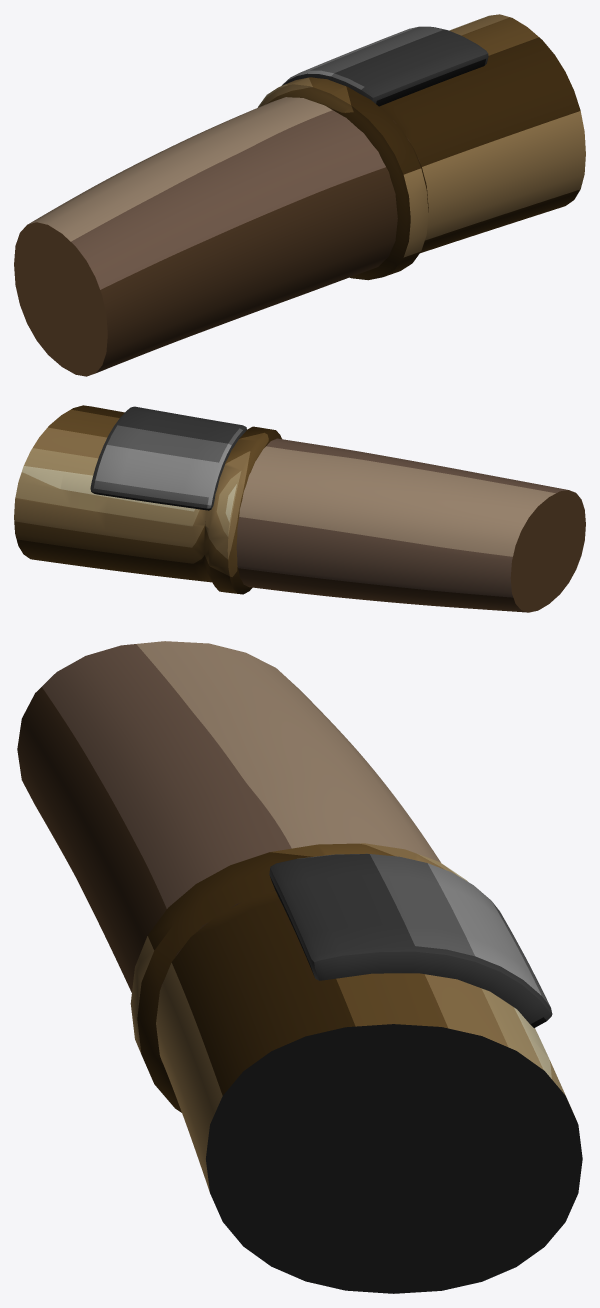
The model's file is tusk_arm_b_233.glb.
The picture shows the model from 3 angles, top to bottom: view 1: azimuth 30°, elevation 25°; view 2: azimuth 150°, elevation 25°; view 3: azimuth 270°, elevation 25°; orthographic projection. The views are drawn at different scales.
Visible parts, largest first — view 1: tusk_arm_b_233; view 2: tusk_arm_b_233; view 3: tusk_arm_b_233.
Part boxes in pixels (x1,y1,x2,y2): tusk_arm_b_233: (14, 14, 585, 376); tusk_arm_b_233: (14, 405, 585, 612); tusk_arm_b_233: (17, 641, 582, 1293).
Bounding box in the file's own units: 24 × 7.93 × 13.64.
